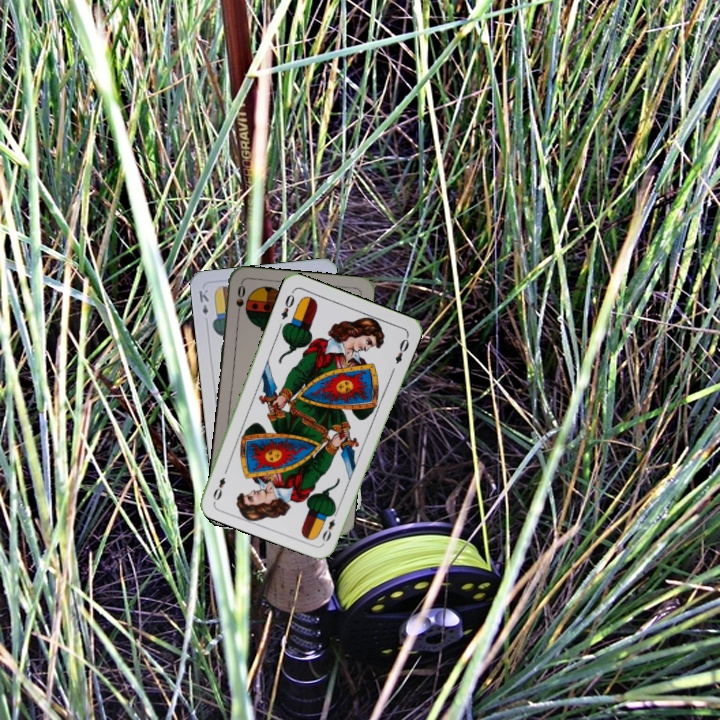EK: (195, 285, 211, 318)
EO: (318, 506, 340, 545), (277, 290, 297, 322)
SO: (232, 281, 248, 321)
